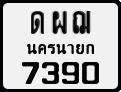letters: (71, 10, 91, 35), (20, 60, 40, 85), (81, 61, 101, 85), (50, 10, 69, 35), (41, 61, 60, 85), (61, 61, 80, 84), (29, 9, 45, 36)
province: (25, 42, 96, 56)
